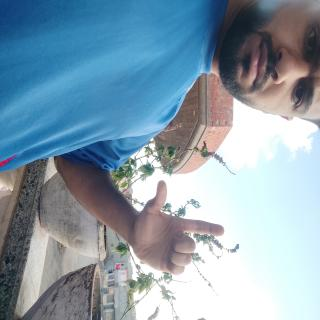LAAM: (135, 122, 214, 274)
